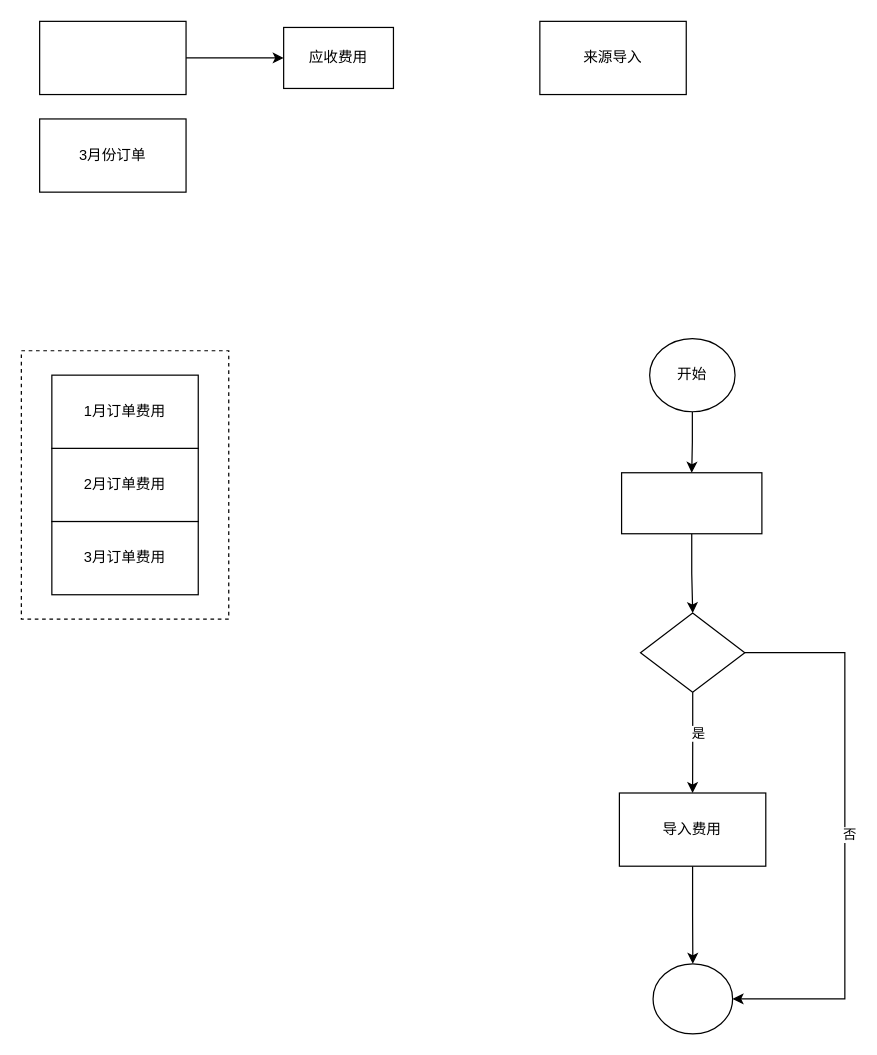
This 877x1055 diagram has some shape labels left out. The centre of each missing label's shape, as x and y in pixels:
"2月份订单" belongs at (112,57).
"箱号是否已经导入？" belongs at (692,652).
"结束" belongs at (692,998).
"读取一条费用" belongs at (691,503).
